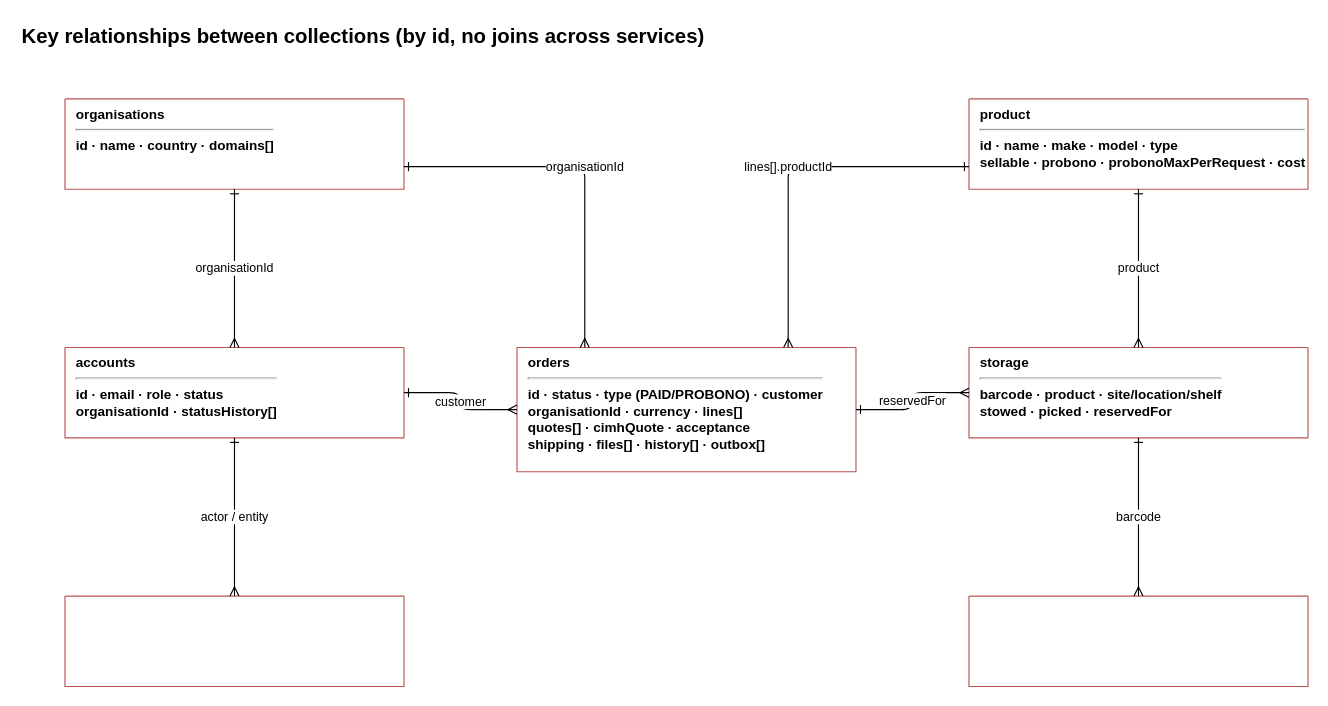
Image size: 1328x706. Some labels were removed from this diagram. Each missing label, with the centre of its shape:
"auditlog actor · action · entity · at · reason" goes at pixel 234 640.
"history operation · barcode · user · date" goes at pixel 1138 640.
